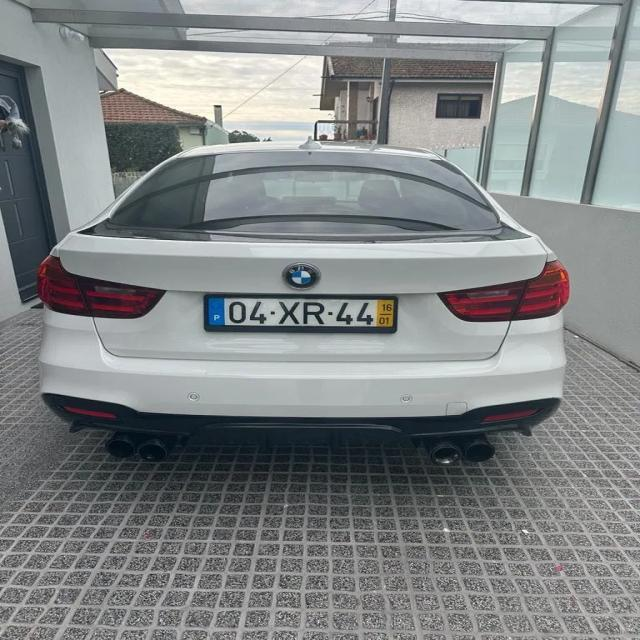portuguese-license-plates: (200, 290, 406, 339)
